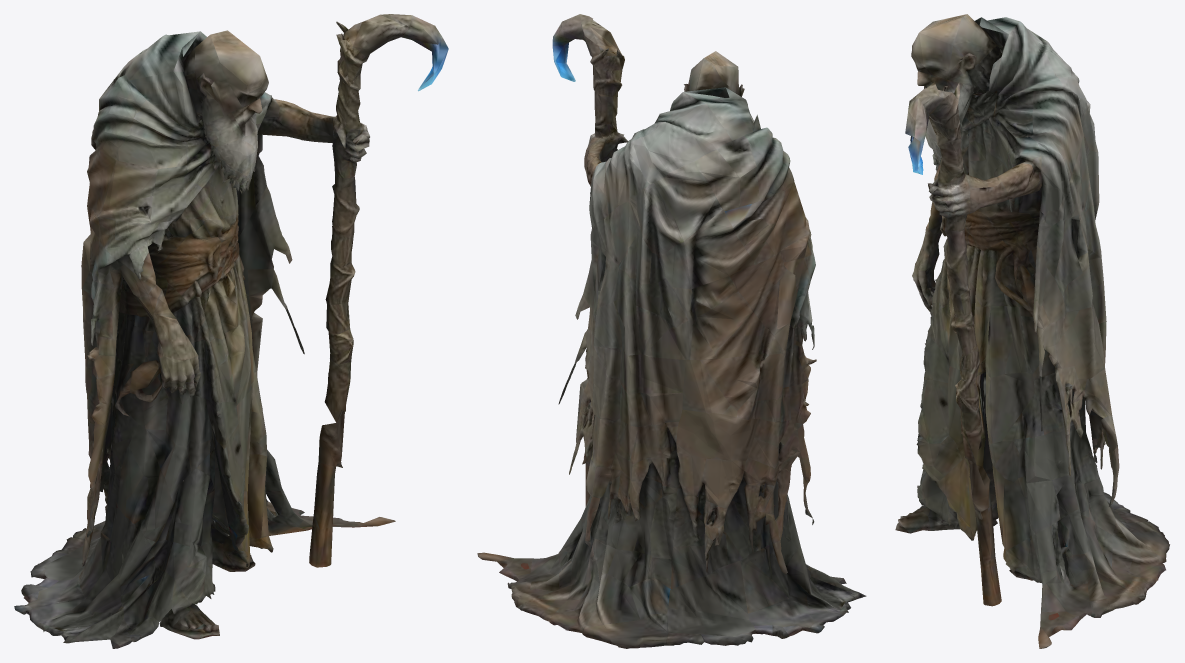
Rendered from boss1.glb.
3 views of the same model, side by side, from view 1: azimuth 30°, elevation 25°; view 2: azimuth 150°, elevation 25°; view 3: azimuth 270°, elevation 25° (orthographic). The views are drawn at different scales.
Visible parts, largest first — view 1: Object_4; view 2: Object_4; view 3: Object_4.
Part boxes in pixels (x1,y1,x2,y2): Object_4: [14, 14, 448, 648]; Object_4: [477, 14, 866, 648]; Object_4: [895, 14, 1169, 648].
Bounding box in the file's own units: 1.32 × 1.89 × 0.8791.
1 material, 1 textured.
